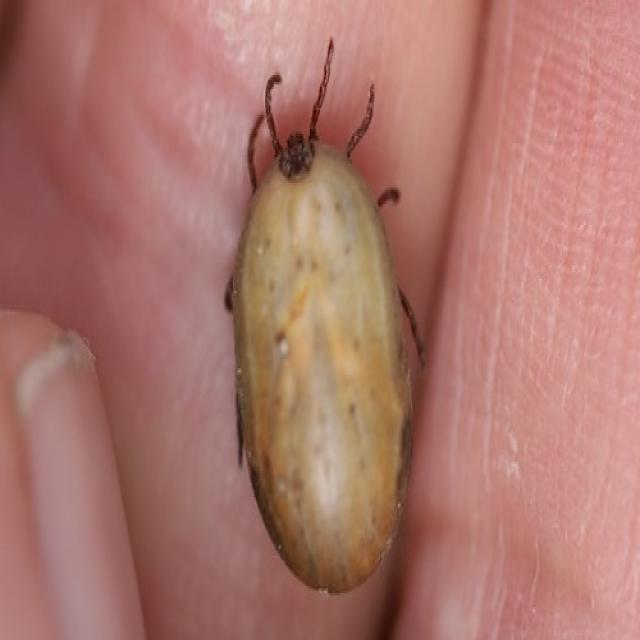Dermacentor Reticulatus-F-Fed: (223, 42, 420, 598)
